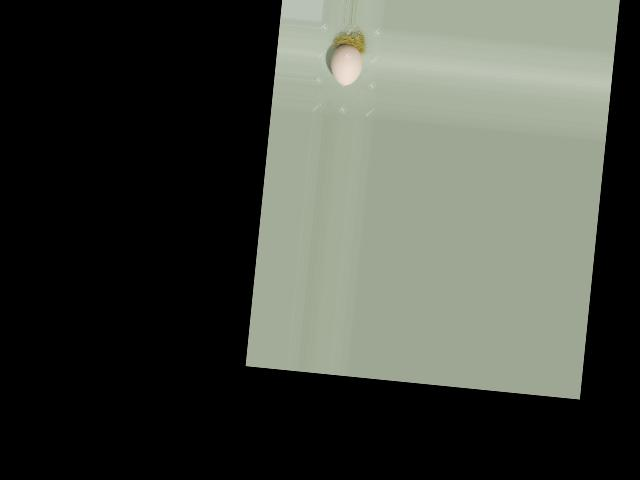egg: (328, 43, 363, 87)
